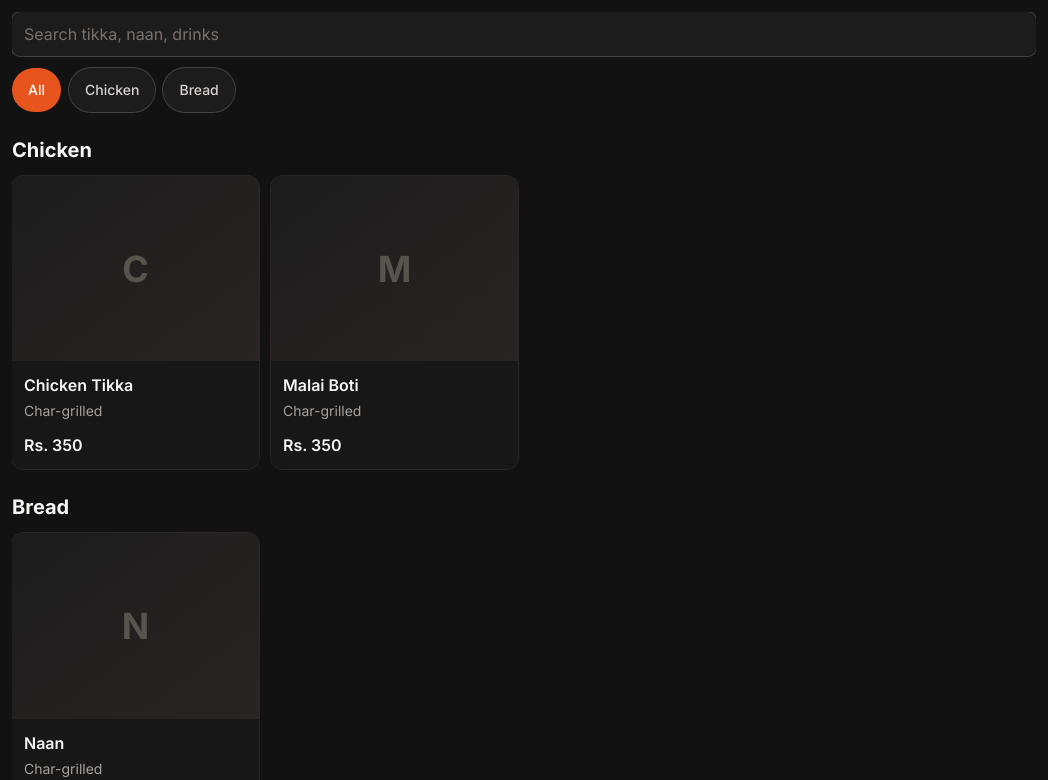
Scenario: MenuBrowser › offers a way back when nothing matches
Type "pizza" into the search field named "Search the menu" at x=524, y=34, box [12,12,1036,56]
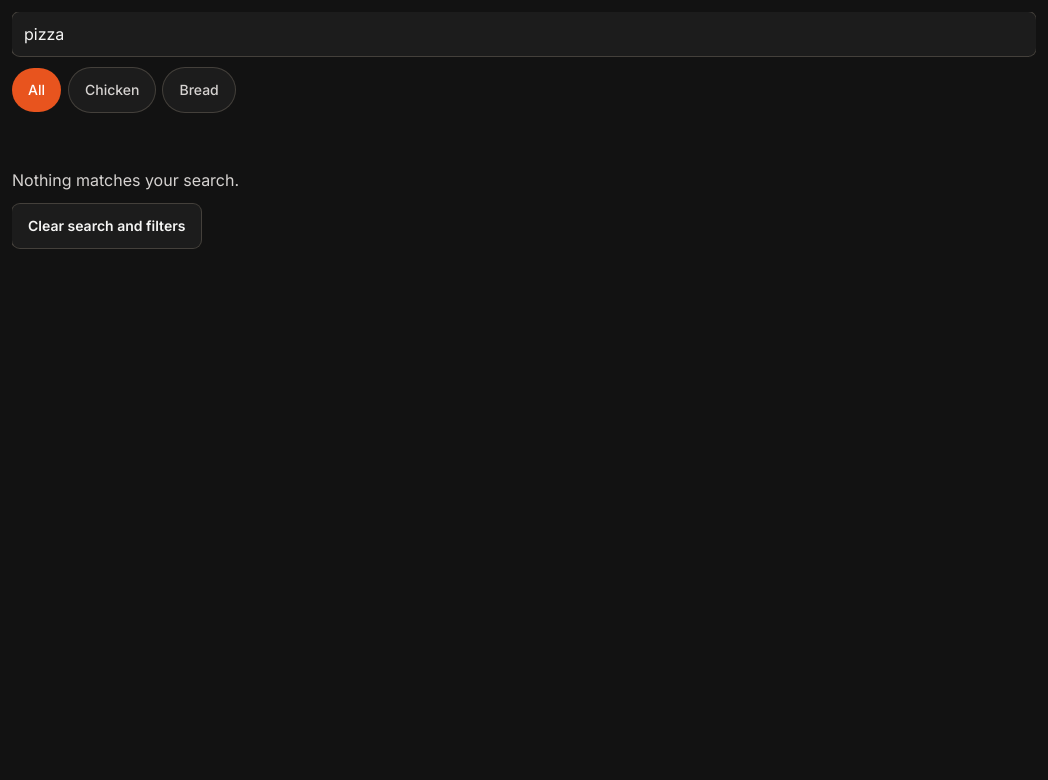
Result: the text "Nothing matches your search." is shown at [12,168,239,192]
Click the button "Clear search and filters" at x=107, y=226, box [12,204,201,248]
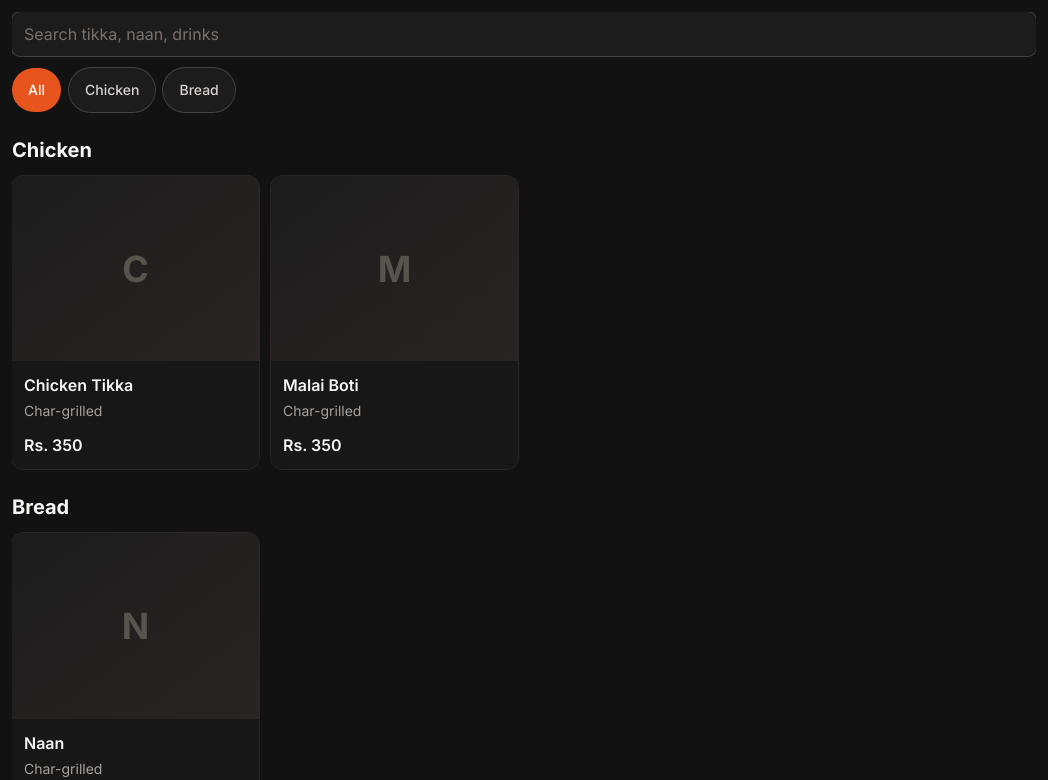
Result: the search field named "Search the menu" is empty at [12,12,1036,56]
